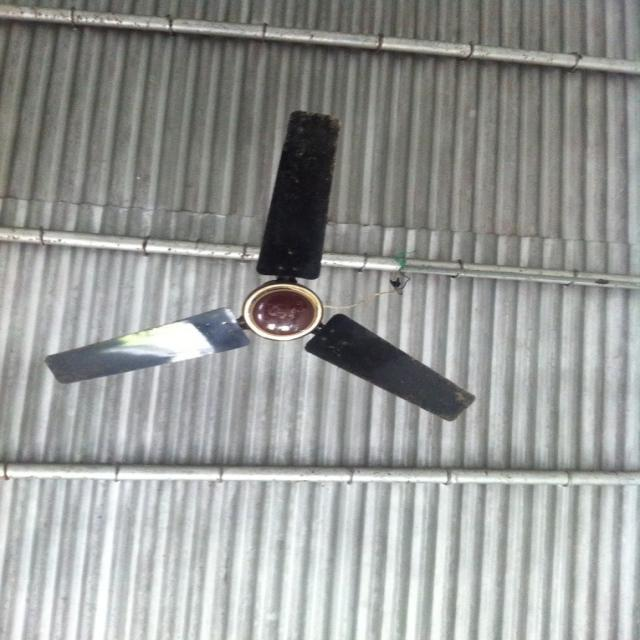fan_off: (51, 112, 469, 422)
